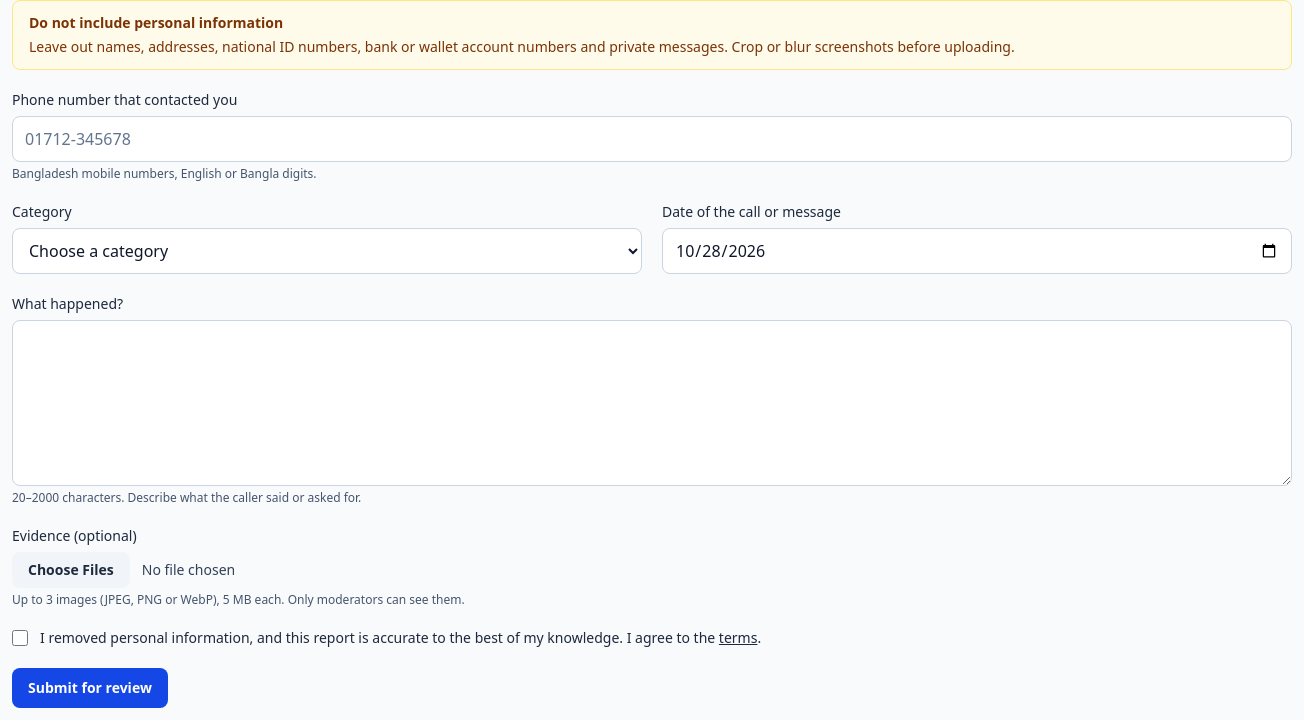
it: ReportForm › shows validation messages and does not submit
Click the button "Submit for review".
click(90, 688)  # box top-left (12, 668), bottom-right (168, 708)
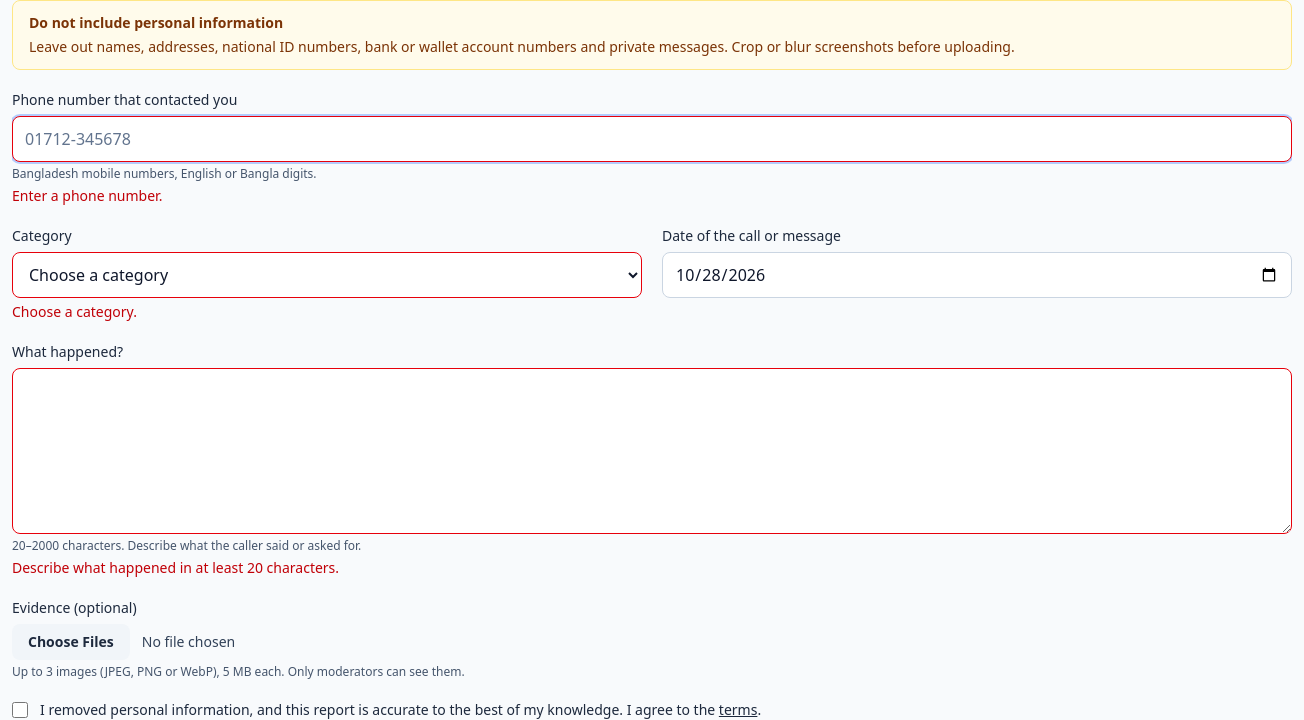
Check: the text "Enter a phone number." is shown, box top-left (12, 186), bottom-right (162, 205)
Check: the text "Choose a category." is shown, box top-left (12, 302), bottom-right (137, 321)
Check: the text "Describe what happened in at least 20 characters." is shown, box top-left (12, 558), bottom-right (339, 577)
